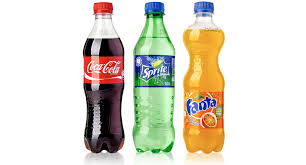HDPE Cap: (93, 2, 113, 14), (144, 2, 164, 14), (194, 1, 214, 13)
PET Bottle: (182, 1, 226, 154), (133, 2, 176, 155), (83, 2, 125, 155)
PVC Label: (184, 90, 224, 129), (133, 56, 174, 88), (83, 56, 125, 83)
